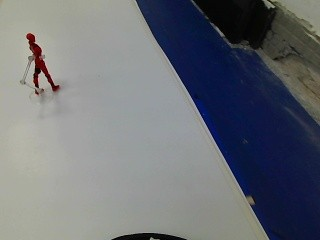pedestrian: (18, 32, 70, 102)
